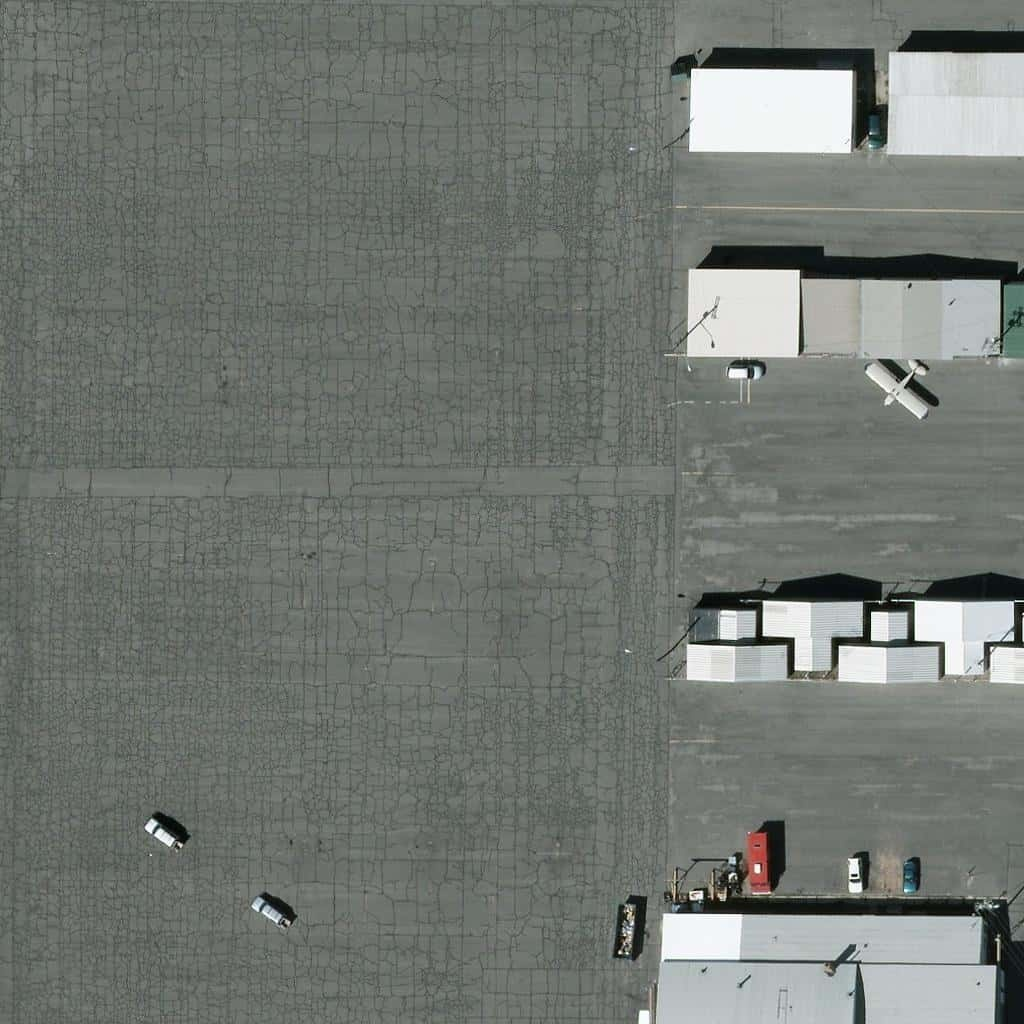plane: (864, 361, 944, 422)
